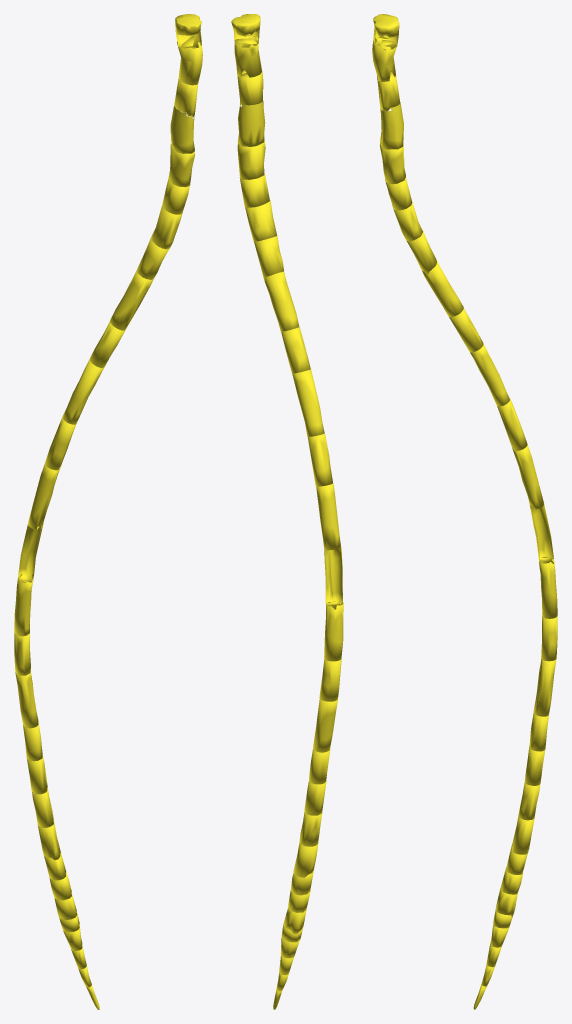
The model's file is 3d-vh-m-spinal-cord_lod_20.glb.
3 renders of one model, left to right at view 1: azimuth 90°, elevation 25°; view 2: azimuth 210°, elevation 25°; view 3: azimuth 270°, elevation 25°, orthographic. The views are drawn at different scales.
Visible parts, largest first — view 1: VH_M_second_thoracic_spinal_cord_segment, VH_M_fourth_thoracic_spinal_cord_segment, VH_M_sixth_thoracic_spinal_cord_segment, VH_M_C5_segment_of_cervical_spinal_cord, VH_M_C3_segment_of_cervical_spinal_cord, VH_M_eighth_thoracic_spinal_cord_segment, VH_M_seventh_thoracic_spinal_cord_segment, VH_M_tenth_thoracic_spinal_cord_segment, VH_M_fifth_thoracic_spinal_cord_segment, VH_M_C8_segment_of_cervical_spinal_cord, VH_M_C6_segment_of_cervical_spinal_cord, VH_M_third_thoracic_spinal_cord_segment (+9 smaller); view 2: VH_M_fourth_thoracic_spinal_cord_segment, VH_M_second_thoracic_spinal_cord_segment, VH_M_sixth_thoracic_spinal_cord_segment, VH_M_C5_segment_of_cervical_spinal_cord, VH_M_eighth_thoracic_spinal_cord_segment, VH_M_seventh_thoracic_spinal_cord_segment, VH_M_fifth_thoracic_spinal_cord_segment, VH_M_tenth_thoracic_spinal_cord_segment, VH_M_C3_segment_of_cervical_spinal_cord, VH_M_C8_segment_of_cervical_spinal_cord, VH_M_C6_segment_of_cervical_spinal_cord, VH_M_third_thoracic_spinal_cord_segment (+12 smaller); view 3: VH_M_second_thoracic_spinal_cord_segment, VH_M_fourth_thoracic_spinal_cord_segment, VH_M_sixth_thoracic_spinal_cord_segment, VH_M_C5_segment_of_cervical_spinal_cord, VH_M_eighth_thoracic_spinal_cord_segment, VH_M_tenth_thoracic_spinal_cord_segment, VH_M_seventh_thoracic_spinal_cord_segment, VH_M_C3_segment_of_cervical_spinal_cord, VH_M_fifth_thoracic_spinal_cord_segment, VH_M_C6_segment_of_cervical_spinal_cord, VH_M_third_thoracic_spinal_cord_segment, VH_M_ninth_thoracic_spinal_cord_segment (+9 smaller).
Boxes of the visible parts, x1=… form: VH_M_second_thoracic_spinal_cord_segment: x1=110, y1=270, x2=153, y2=330; VH_M_fourth_thoracic_spinal_cord_segment: x1=62, y1=359, x2=103, y2=424; VH_M_sixth_thoracic_spinal_cord_segment: x1=28, y1=464, x2=61, y2=529; VH_M_C5_segment_of_cervical_spinal_cord: x1=170, y1=105, x2=194, y2=153; VH_M_C3_segment_of_cervical_spinal_cord: x1=177, y1=35, x2=202, y2=85; VH_M_eighth_thoracic_spinal_cord_segment: x1=14, y1=574, x2=33, y2=636; VH_M_seventh_thoracic_spinal_cord_segment: x1=18, y1=524, x2=43, y2=582; VH_M_tenth_thoracic_spinal_cord_segment: x1=15, y1=669, x2=38, y2=728; VH_M_fifth_thoracic_spinal_cord_segment: x1=45, y1=417, x2=76, y2=470; VH_M_C8_segment_of_cervical_spinal_cord: x1=151, y1=205, x2=182, y2=249; VH_M_C6_segment_of_cervical_spinal_cord: x1=168, y1=144, x2=194, y2=187; VH_M_third_thoracic_spinal_cord_segment: x1=89, y1=321, x2=125, y2=367; VH_M_fourth_thoracic_spinal_cord_segment: x1=292, y1=369, x2=324, y2=436; VH_M_second_thoracic_spinal_cord_segment: x1=264, y1=271, x2=299, y2=331; VH_M_sixth_thoracic_spinal_cord_segment: x1=316, y1=483, x2=340, y2=550; VH_M_C5_segment_of_cervical_spinal_cord: x1=237, y1=101, x2=265, y2=146; VH_M_eighth_thoracic_spinal_cord_segment: x1=324, y1=601, x2=343, y2=661; VH_M_seventh_thoracic_spinal_cord_segment: x1=324, y1=547, x2=343, y2=609; VH_M_fifth_thoracic_spinal_cord_segment: x1=308, y1=433, x2=332, y2=486; VH_M_tenth_thoracic_spinal_cord_segment: x1=313, y1=699, x2=337, y2=752; VH_M_C3_segment_of_cervical_spinal_cord: x1=234, y1=35, x2=261, y2=77; VH_M_C8_segment_of_cervical_spinal_cord: x1=245, y1=200, x2=276, y2=241; VH_M_C6_segment_of_cervical_spinal_cord: x1=237, y1=139, x2=265, y2=179; VH_M_third_thoracic_spinal_cord_segment: x1=281, y1=327, x2=310, y2=373; VH_M_second_thoracic_spinal_cord_segment: x1=422, y1=259, x2=463, y2=317; VH_M_fourth_thoracic_spinal_cord_segment: x1=470, y1=343, x2=509, y2=406; VH_M_sixth_thoracic_spinal_cord_segment: x1=512, y1=445, x2=543, y2=509; VH_M_C5_segment_of_cervical_spinal_cord: x1=380, y1=102, x2=403, y2=149; VH_M_eighth_thoracic_spinal_cord_segment: x1=539, y1=556, x2=557, y2=618; VH_M_tenth_thoracic_spinal_cord_segment: x1=533, y1=659, x2=556, y2=716; VH_M_seventh_thoracic_spinal_cord_segment: x1=529, y1=504, x2=553, y2=563; VH_M_C3_segment_of_cervical_spinal_cord: x1=372, y1=37, x2=397, y2=81; VH_M_fifth_thoracic_spinal_cord_segment: x1=497, y1=398, x2=527, y2=450; VH_M_C6_segment_of_cervical_spinal_cord: x1=379, y1=143, x2=405, y2=184; VH_M_third_thoracic_spinal_cord_segment: x1=449, y1=308, x2=483, y2=352; VH_M_ninth_thoracic_spinal_cord_segment: x1=541, y1=616, x2=557, y2=661.
Bounding box in the file's own units: 0.0209 × 0.4652 × 0.0797.
